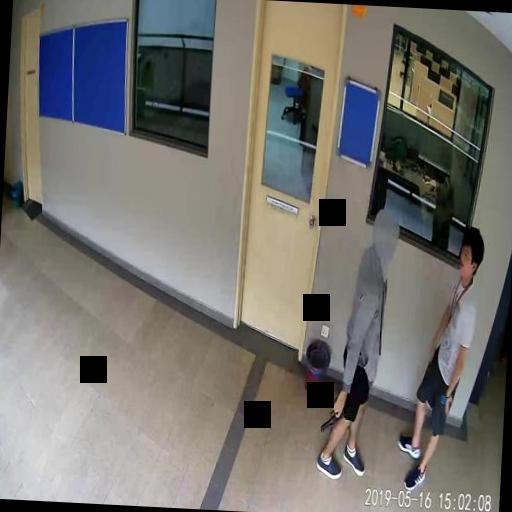Handgun: (320, 392, 344, 430)
